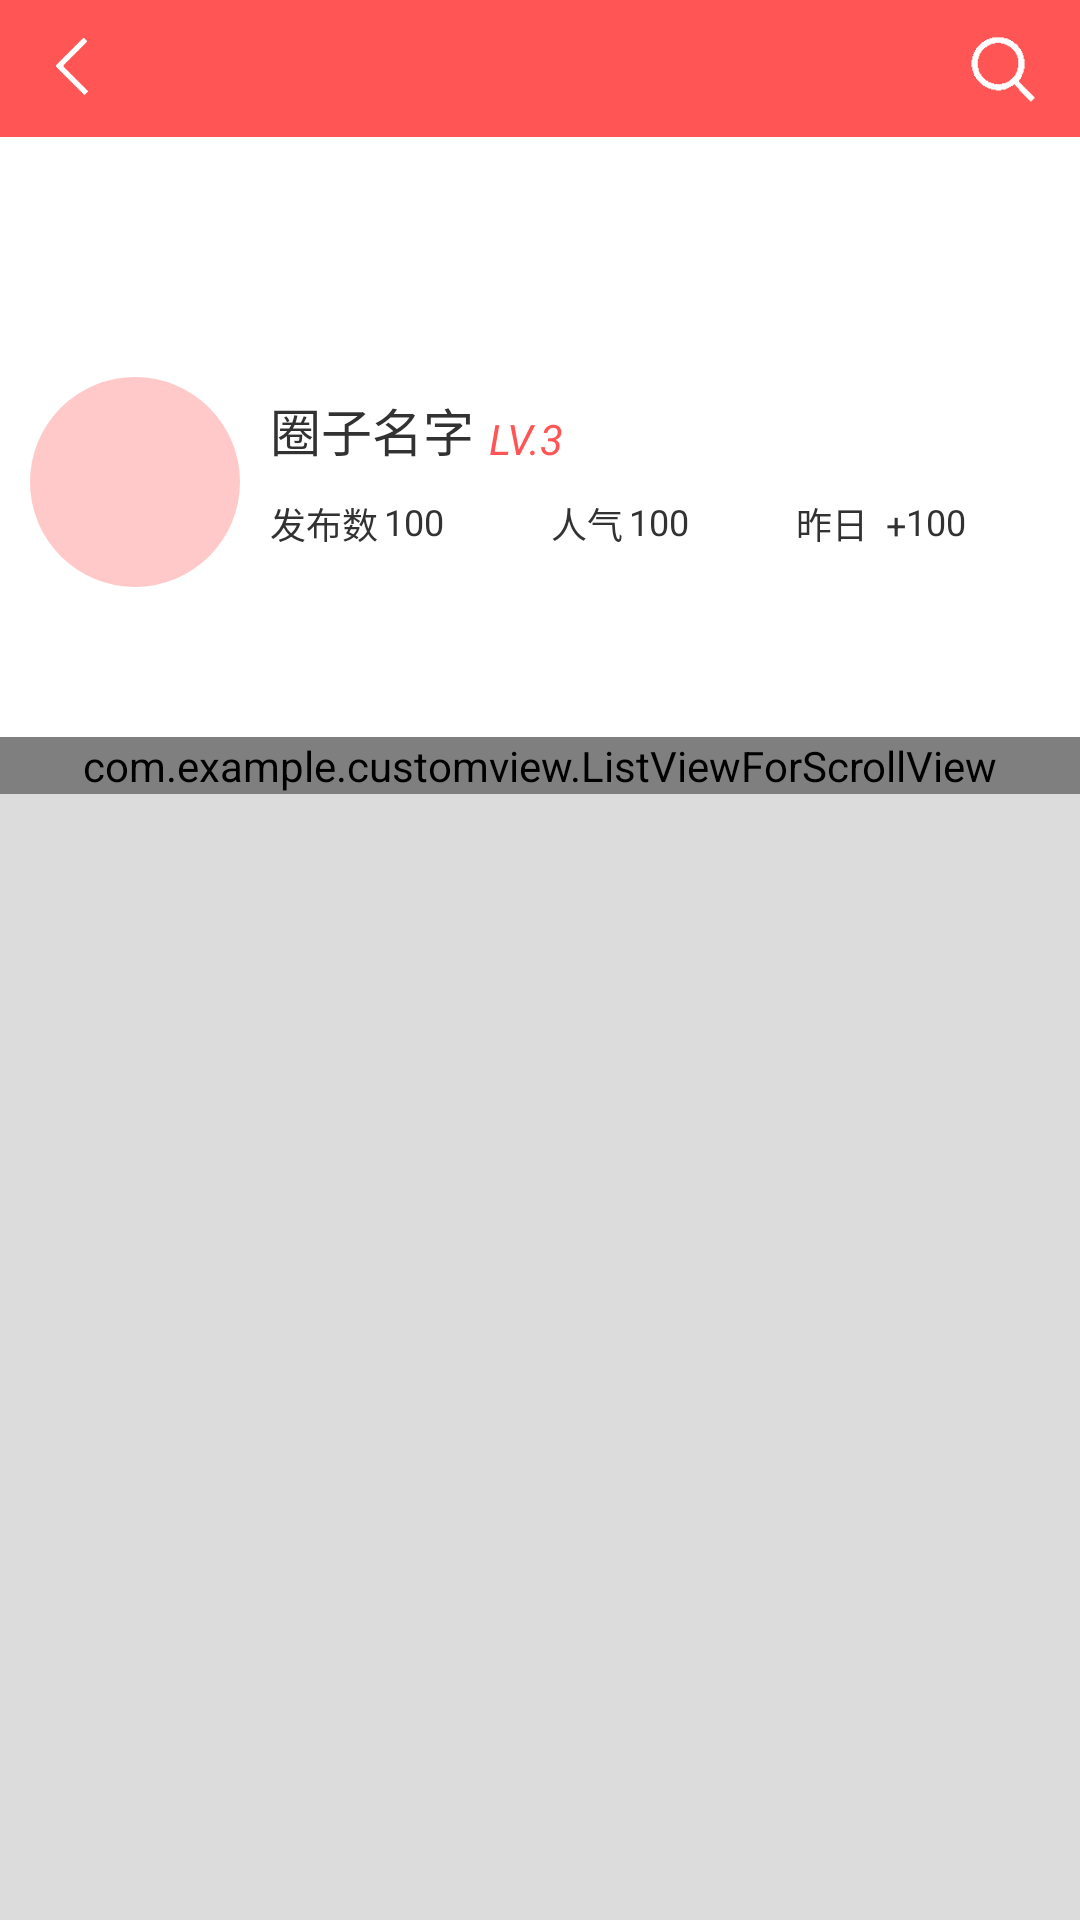

Named icons in this screenshot (1080x1920) and their centers, [x,y]:
jiantou left: [72,66]
search: [1003,69]
